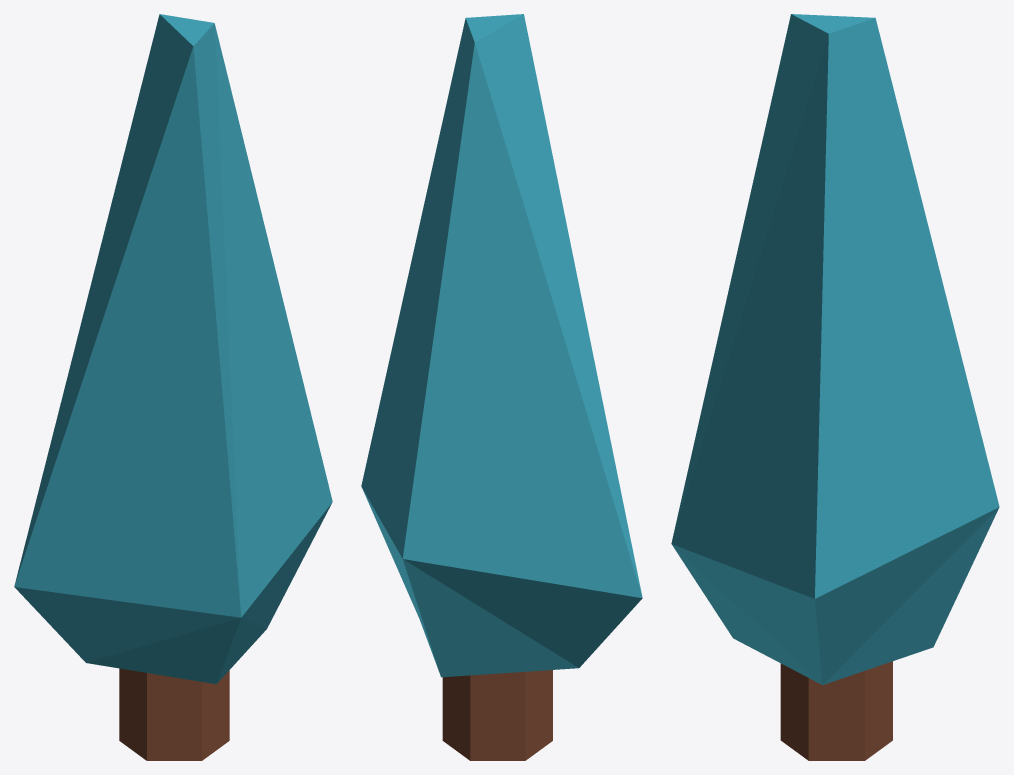
Rendered from Bush_10_summer_blue_mat.fbx.
3 views of the same model, side by side, from view 1: azimuth 30°, elevation 25°; view 2: azimuth 150°, elevation 25°; view 3: azimuth 270°, elevation 25° (orthographic).
Parts seen in each view (by area): view 1: Bush_10_summer_blue_mat; view 2: Bush_10_summer_blue_mat; view 3: Bush_10_summer_blue_mat.
Part boxes in pixels (box(x1,y1,x2,y2)): Bush_10_summer_blue_mat: box(14, 14, 332, 760); Bush_10_summer_blue_mat: box(361, 14, 642, 760); Bush_10_summer_blue_mat: box(671, 14, 999, 760).
Size of the model in its own units: 38.13 by 86.43 by 35.48.
